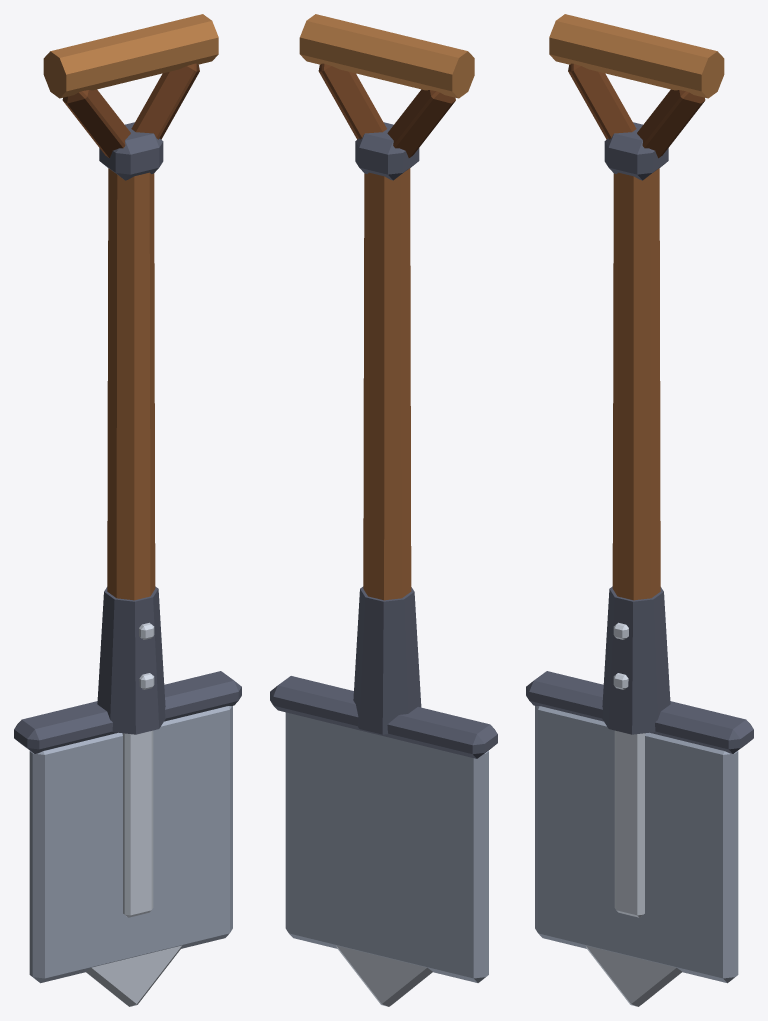
The model's file is pala.glb.
The picture shows the model from 3 angles, left to right: view 1: azimuth 30°, elevation 25°; view 2: azimuth 150°, elevation 25°; view 3: azimuth 330°, elevation 25°; orthographic projection.
Visible parts, largest first — view 1: pala2; view 2: pala2; view 3: pala2.
Part boxes in pixels (x1=…): pala2: x1=14, y1=14, x2=241, y2=1006; pala2: x1=270, y1=14, x2=497, y2=1006; pala2: x1=526, y1=14, x2=753, y2=1006.
Size of the model in its own units: 0.225 by 0.9703 by 0.0626.
